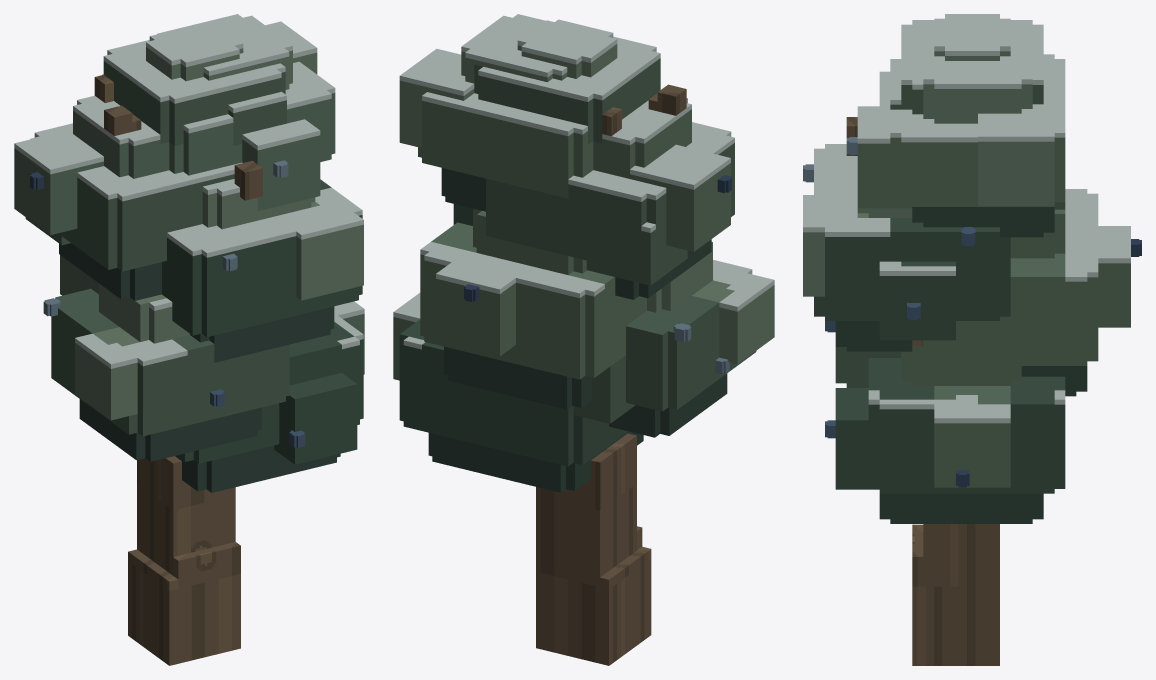
The model's file is juniper_ancient_winter.glb.
The picture shows the model from 3 angles, left to right: view 1: azimuth 30°, elevation 25°; view 2: azimuth 150°, elevation 25°; view 3: azimuth 270°, elevation 25°; orthographic projection. The views are drawn at different scales.
Parts seen in each view (by area): view 1: VoxelVisual; view 2: VoxelVisual; view 3: VoxelVisual.
Boxes of the visible parts, x1,y1,x2,y2 form: VoxelVisual: (14,14,364,665); VoxelVisual: (393,14,774,665); VoxelVisual: (803,14,1141,665).
Size of what is drawn, in the model's own units: 9 by 15.75 by 7.75.
